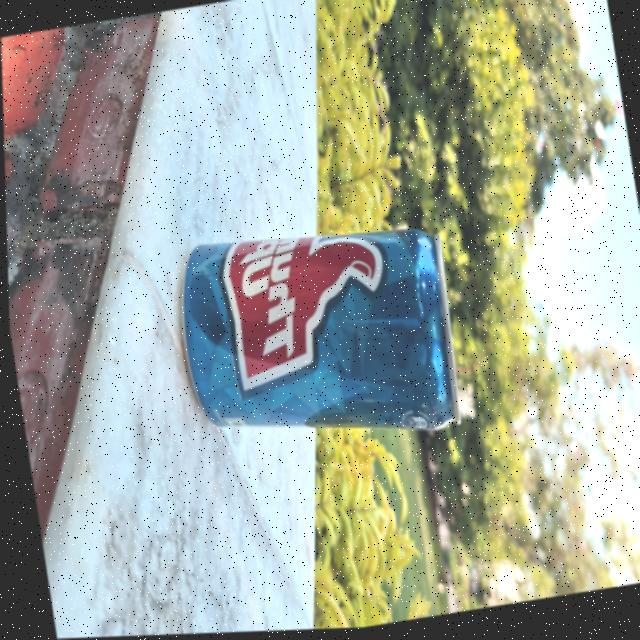Thums Up: (159, 205, 473, 478)
